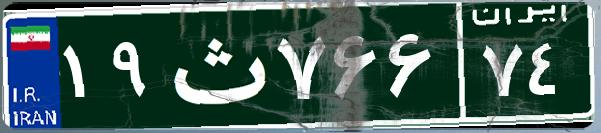1: (57, 26, 110, 107)
4: (525, 38, 570, 115)
6: (385, 28, 445, 110), (330, 28, 385, 110)
7: (273, 28, 330, 110), (475, 38, 525, 113)
9: (110, 28, 158, 105)
ث: (158, 15, 273, 115)
